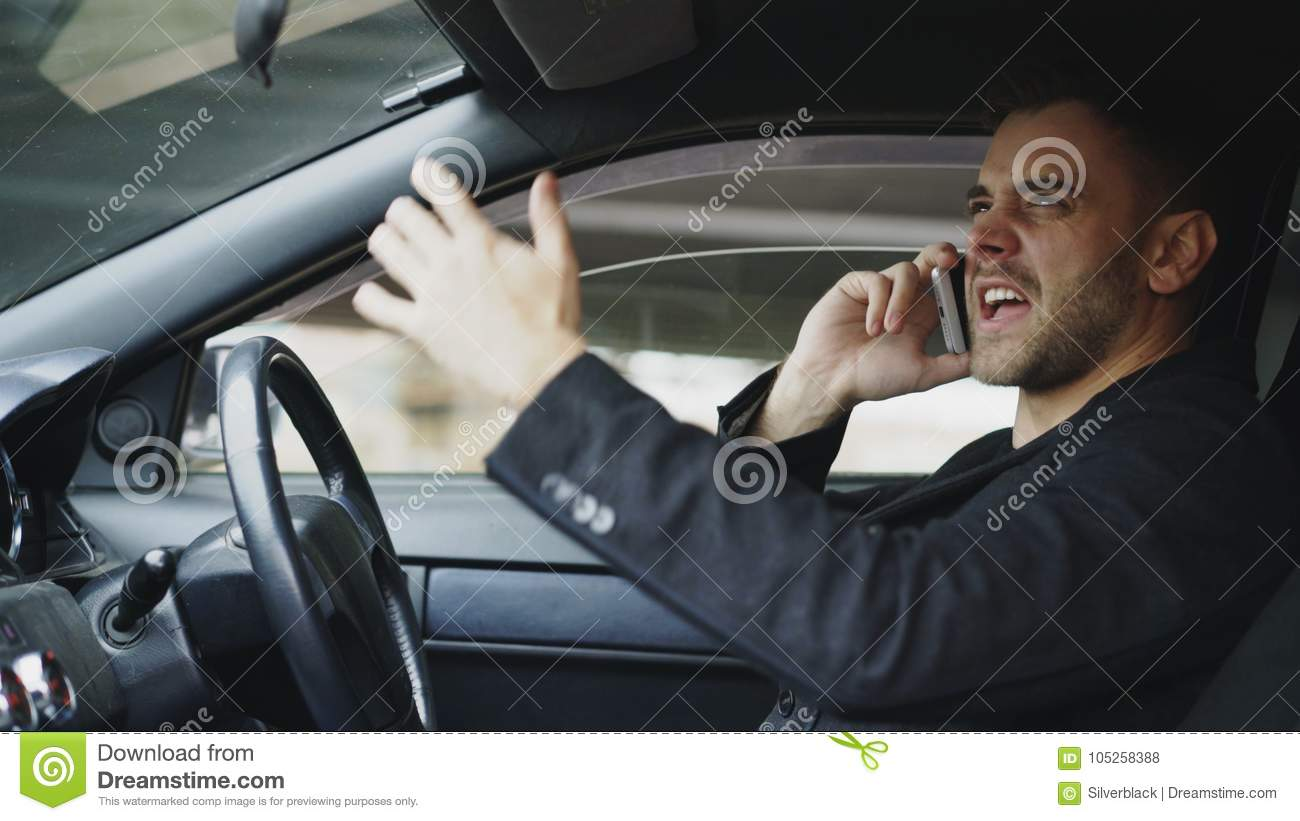talk: (792, 162, 1083, 412)
